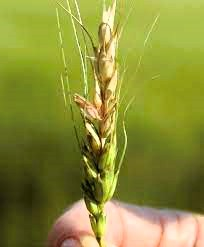Wheat scab: (67, 13, 125, 203)
